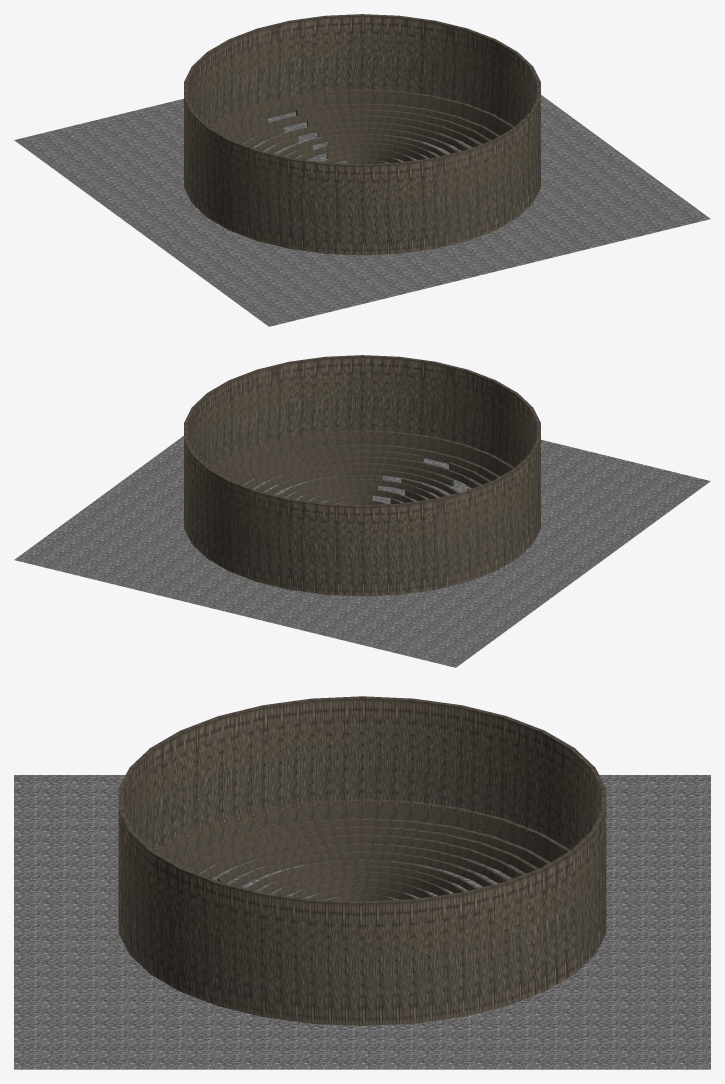
File: level7.fbx
3 views of the same model, one above another, from view 1: azimuth 30°, elevation 25°; view 2: azimuth 150°, elevation 25°; view 3: azimuth 270°, elevation 25° (orthographic). The views are drawn at different scales.
Parts seen in each view (by area): view 1: invisible_wall, ground, outerWall, outerWall2, outerWall1, outerWall3, outerWall4, outerWall5, outerWall6, outerWall8, outerWall7, outerWall9; view 2: invisible_wall, ground, outerWall, outerWall1, outerWall3, outerWall2, outerWall4, outerWall5, outerWall7, outerWall6, outerWall8, outerWall9; view 3: invisible_wall, ground, outerWall, outerWall1, outerWall2, outerWall3, outerWall4, outerWall5, outerWall6, outerWall8, outerWall7, outerWall9 (+1 smaller).
Part boxes in pixels (x1,y1,x2,y2): invisible_wall: (184, 14, 540, 255); ground: (14, 95, 710, 326); outerWall: (210, 89, 514, 135); outerWall2: (233, 109, 491, 143); outerWall1: (225, 103, 499, 139); outerWall3: (244, 115, 480, 147); outerWall4: (255, 121, 469, 150); outerWall5: (266, 127, 458, 153); outerWall6: (278, 133, 446, 156); outerWall8: (298, 142, 426, 159); outerWall7: (287, 138, 437, 158); outerWall9: (326, 148, 414, 161); invisible_wall: (184, 355, 540, 596); ground: (14, 436, 710, 667); outerWall: (210, 430, 514, 476); outerWall1: (225, 444, 499, 480); outerWall3: (244, 456, 480, 488); outerWall2: (233, 450, 491, 484); outerWall4: (255, 462, 469, 491); outerWall5: (266, 468, 458, 494); outerWall7: (287, 479, 437, 499); outerWall6: (278, 474, 446, 497); outerWall8: (298, 483, 426, 500); outerWall9: (310, 489, 414, 502); invisible_wall: (118, 696, 606, 1025); ground: (14, 775, 710, 1069); outerWall: (154, 799, 570, 861); outerWall1: (174, 818, 550, 868); outerWall2: (186, 826, 538, 873); outerWall3: (200, 834, 524, 878); outerWall4: (217, 843, 508, 883); outerWall5: (231, 851, 493, 886); outerWall6: (247, 859, 477, 890); outerWall8: (274, 871, 450, 895); outerWall7: (260, 865, 464, 893); outerWall9: (291, 879, 433, 897).
Size of the model in its own units: 72.33 by 14.52 by 72.33.
